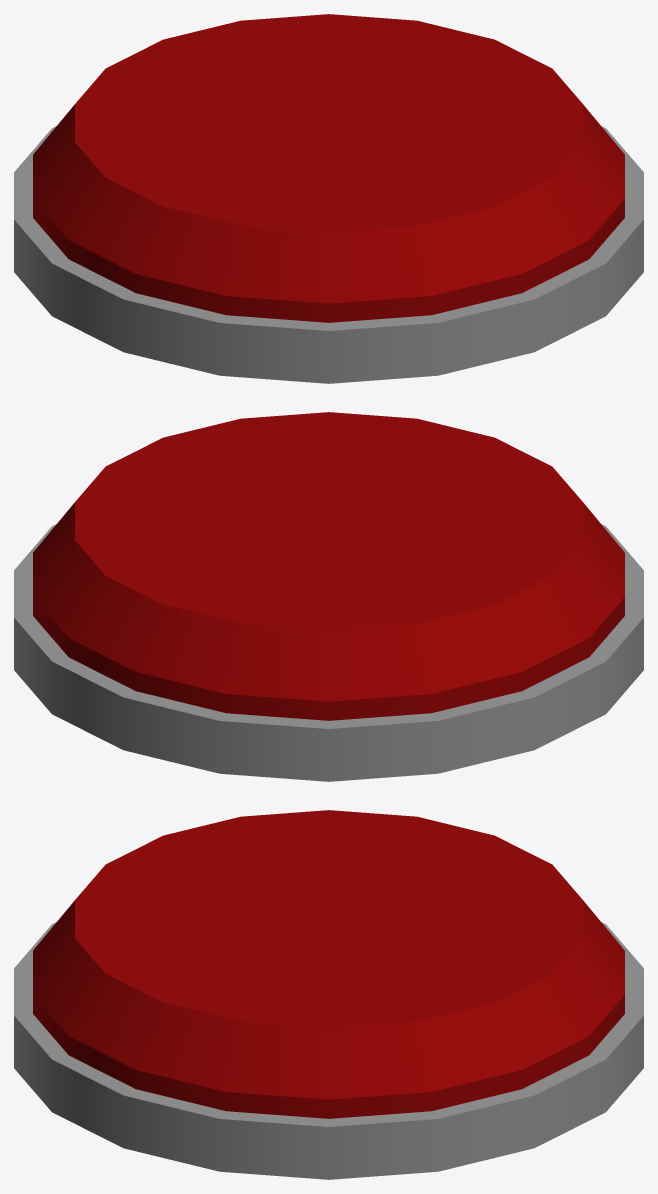
File: M_prop_Lamp_Round_Big.FBX
3 views of the same model, one above another, from view 1: azimuth 30°, elevation 25°; view 2: azimuth 150°, elevation 25°; view 3: azimuth 270°, elevation 25° (orthographic).
Parts seen in each view (by area): view 1: M_prop_Lamp_Round_Big; view 2: M_prop_Lamp_Round_Big; view 3: M_prop_Lamp_Round_Big.
Boxes of the visible parts, box(x1,y1,x2,y2) form: M_prop_Lamp_Round_Big: box(14, 14, 643, 383); M_prop_Lamp_Round_Big: box(14, 412, 643, 781); M_prop_Lamp_Round_Big: box(14, 810, 643, 1179).
Bounding box in the file's own units: 120 × 118 × 26.
